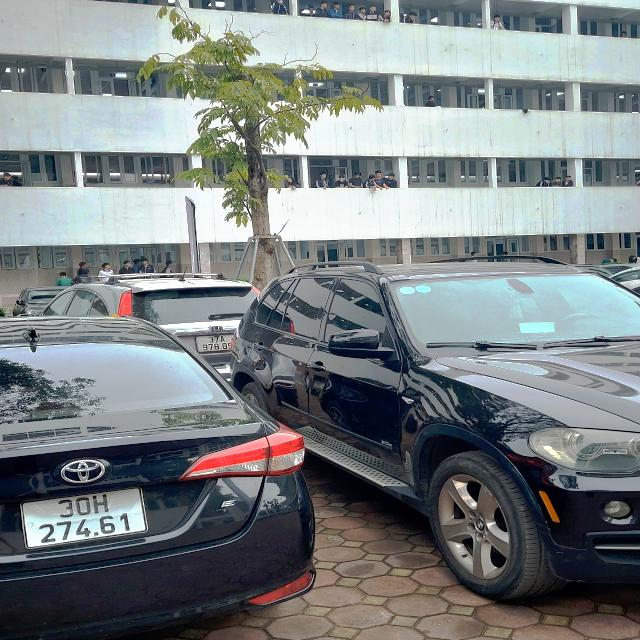license_plate: (23, 489, 148, 549), (198, 335, 238, 353)
